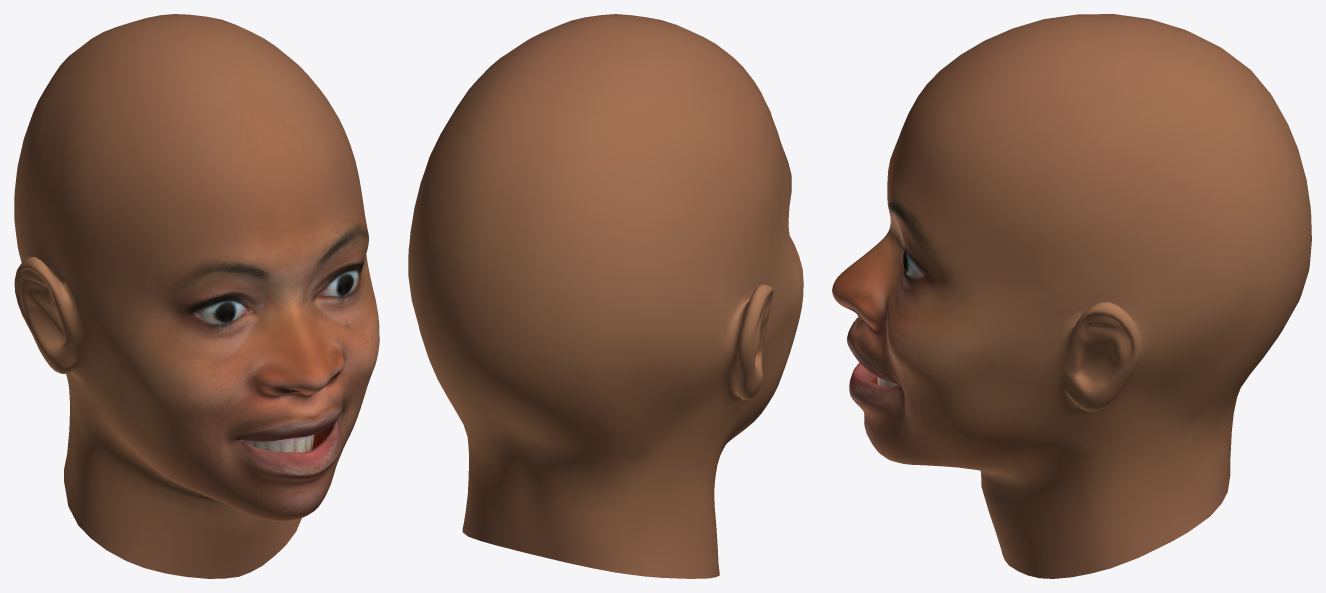
File: v332_obj_PhonemeK.obj
3 renders of one model, left to right at view 1: azimuth 30°, elevation 25°; view 2: azimuth 150°, elevation 25°; view 3: azimuth 270°, elevation 25°, orthographic. The views are drawn at different scales.
Visible parts, largest first — view 1: HeadHires, Mouth; view 2: HeadHires; view 3: HeadHires.
Boxes of the visible parts, left/top/right/bottom form: HeadHires: left=14, top=14, right=379, bottom=578; Mouth: left=240, top=425, right=333, bottom=452; HeadHires: left=408, top=14, right=803, bottom=578; HeadHires: left=832, top=14, right=1311, bottom=578.
Size of the model in its own units: 187 by 282 by 233.
